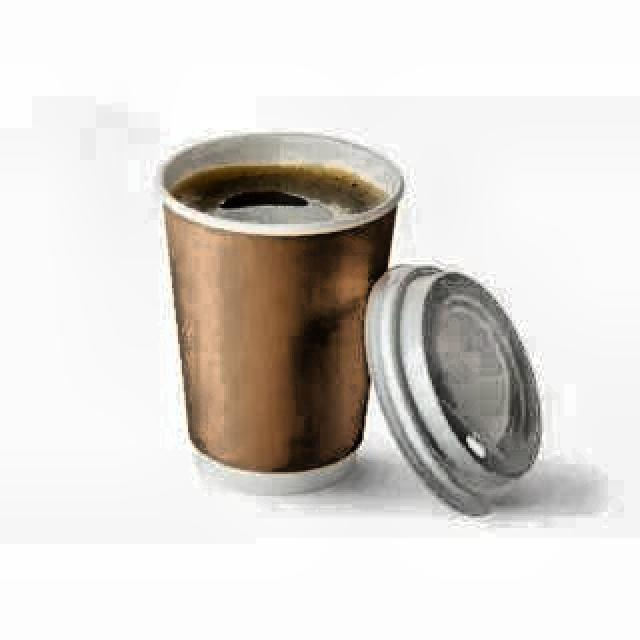Cup: (134, 106, 396, 509)
